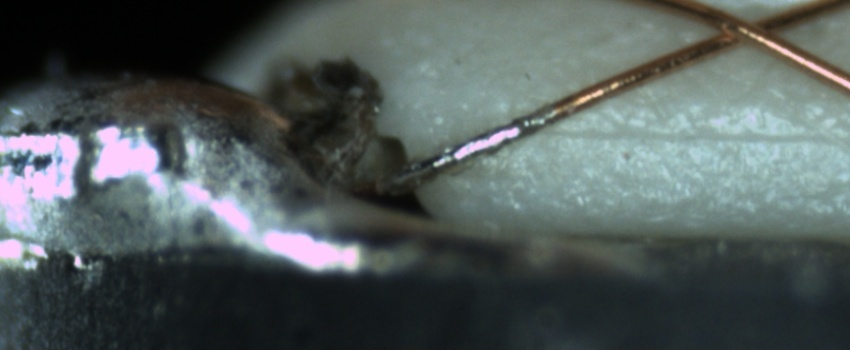CL: (687, 3, 806, 55)
DL: (539, 101, 850, 166)
TS: (360, 104, 557, 200)
